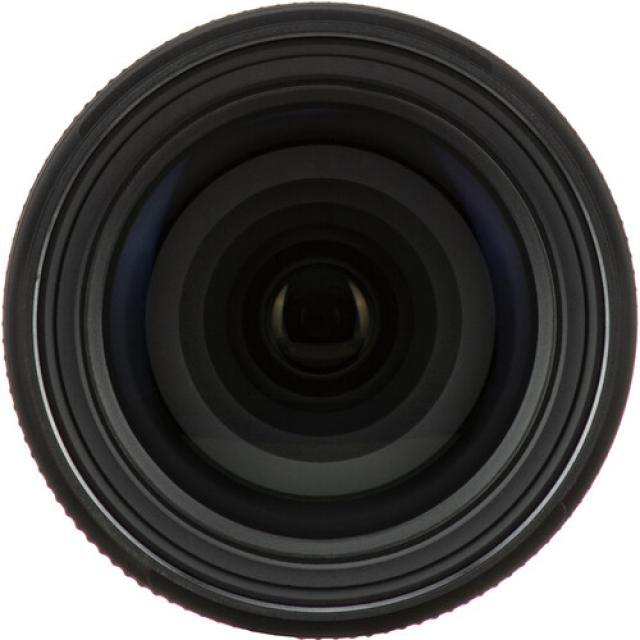hidden camera: (28, 44, 626, 601)
